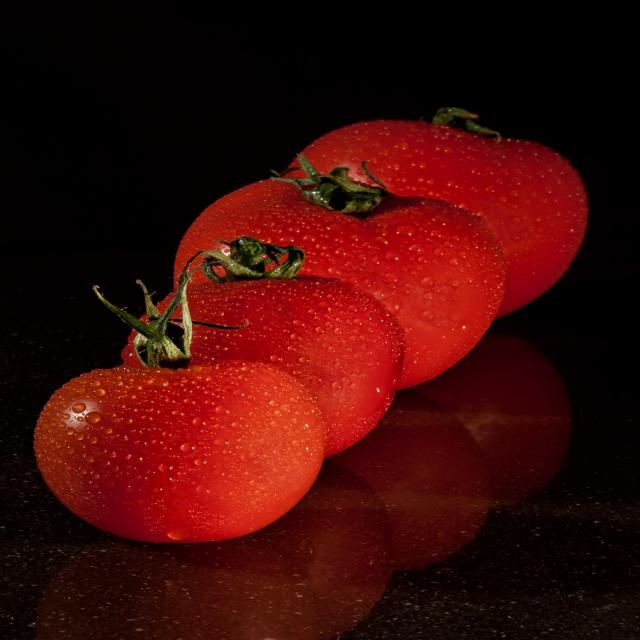Tomato: (47, 310, 314, 540)
